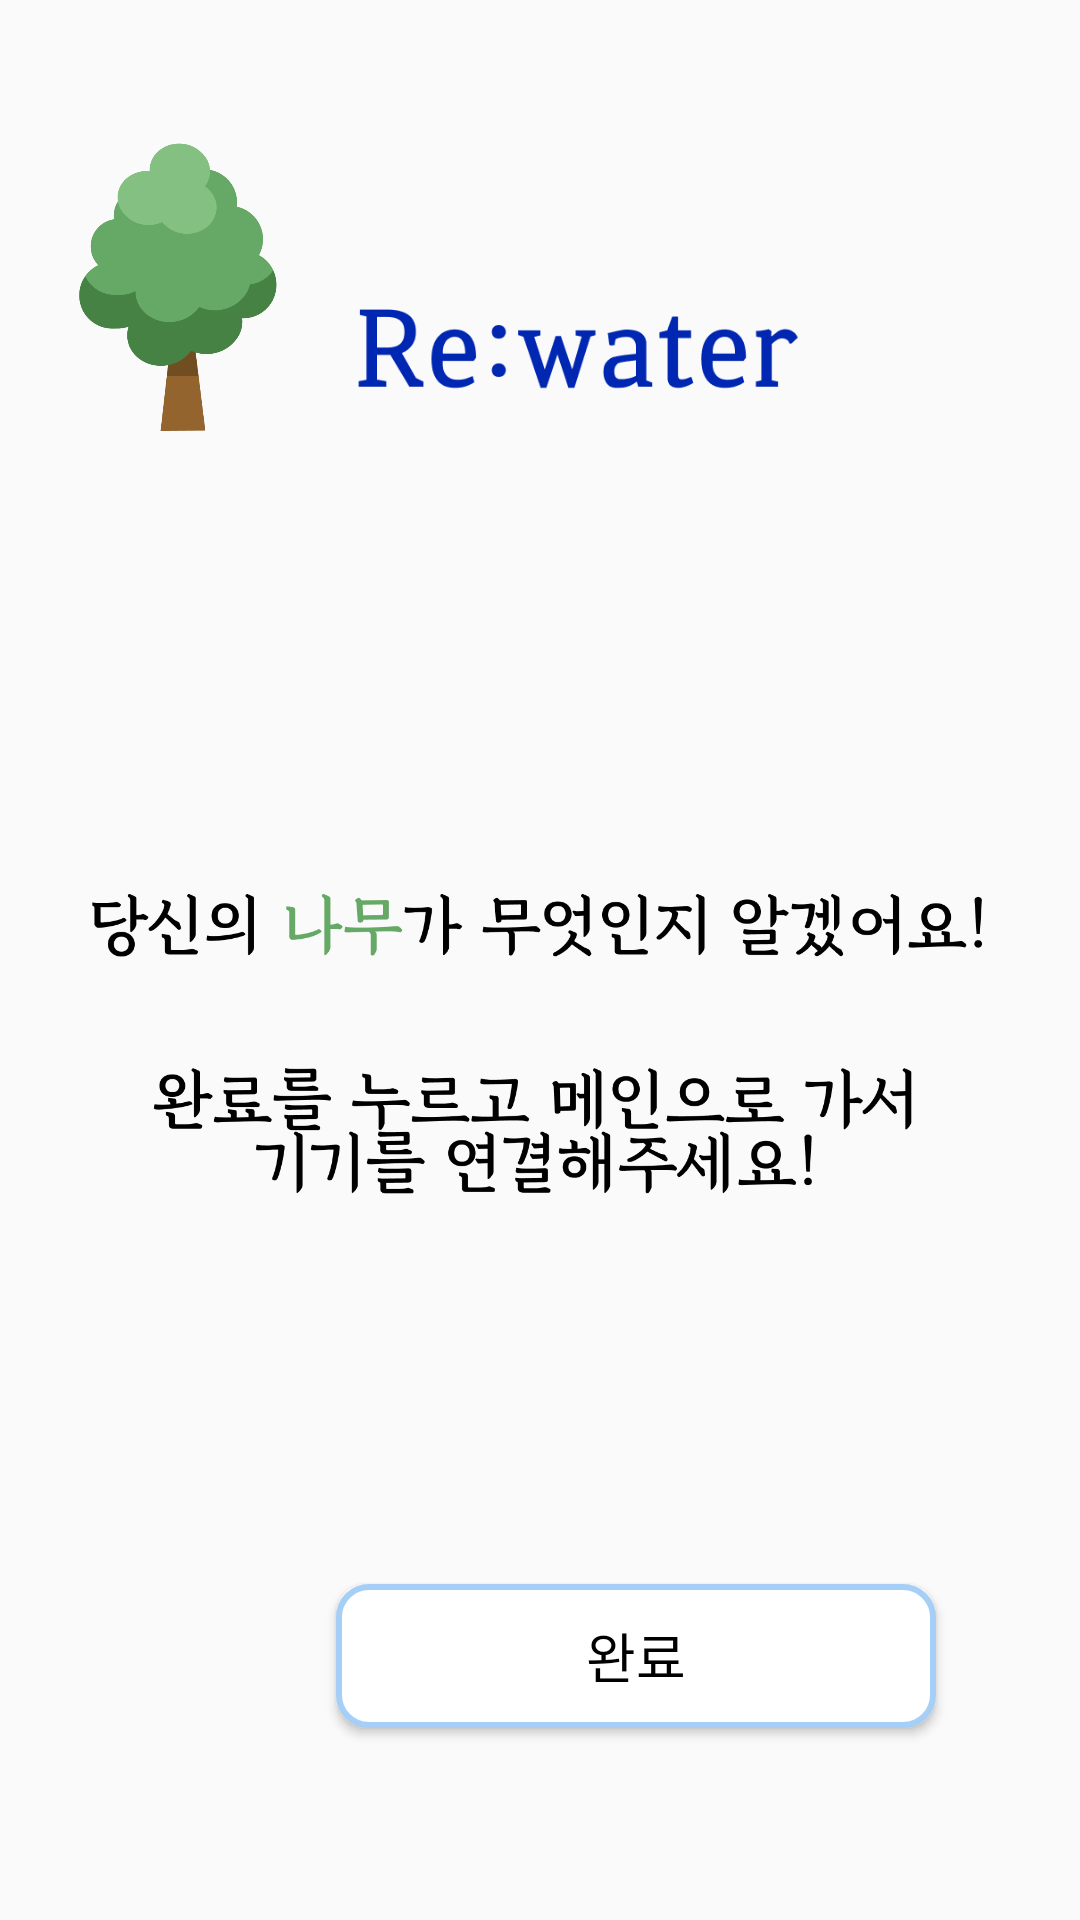

Screen size 1080 x 1920. Icon name, then its box in pixels as (x1, y1, x2, y2):
tree: (79, 143, 277, 431)
